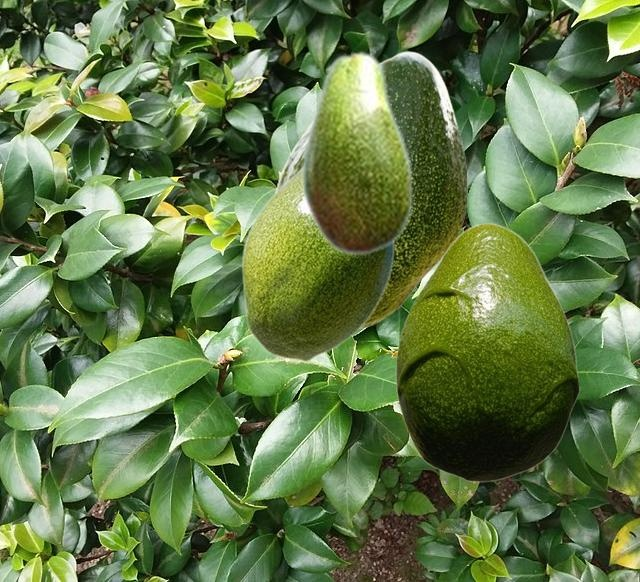avocado: (272, 51, 466, 328), (395, 222, 579, 481), (241, 167, 394, 361), (301, 49, 413, 256)
